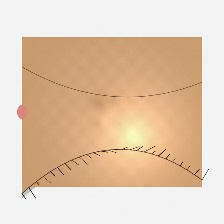hemorrhage_spot: (73, 99, 141, 153)
